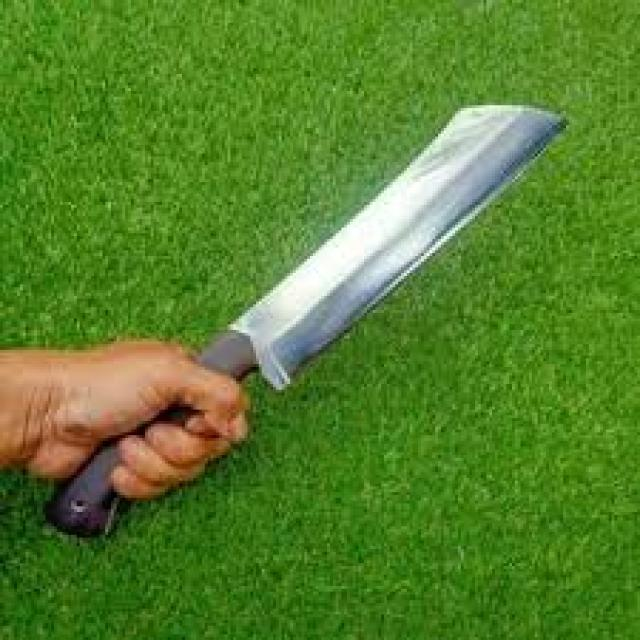Knife: (199, 105, 563, 387)
